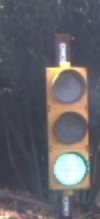Green: (44, 62, 97, 199)
